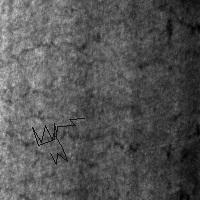crazing: (3, 30, 145, 167), (32, 118, 84, 164)
